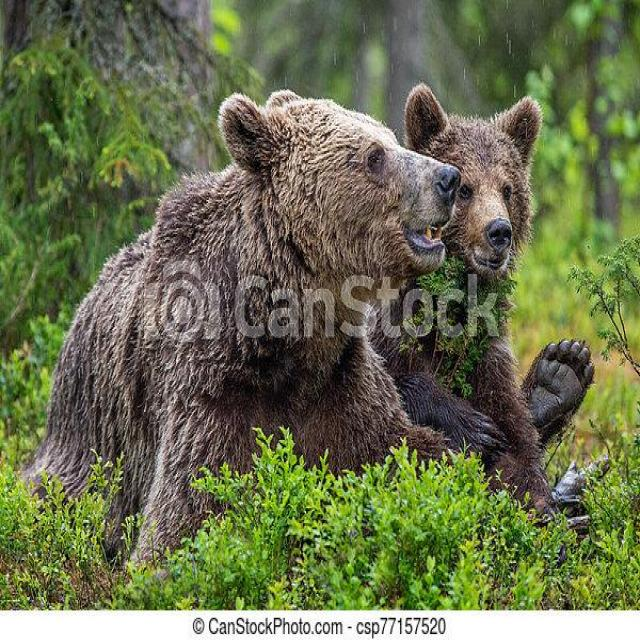Bear: (22, 90, 463, 569), (372, 83, 549, 513)
